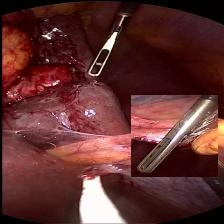Grasper: (130, 95, 216, 177), (80, 10, 133, 82)
Hook: (77, 165, 131, 224)
